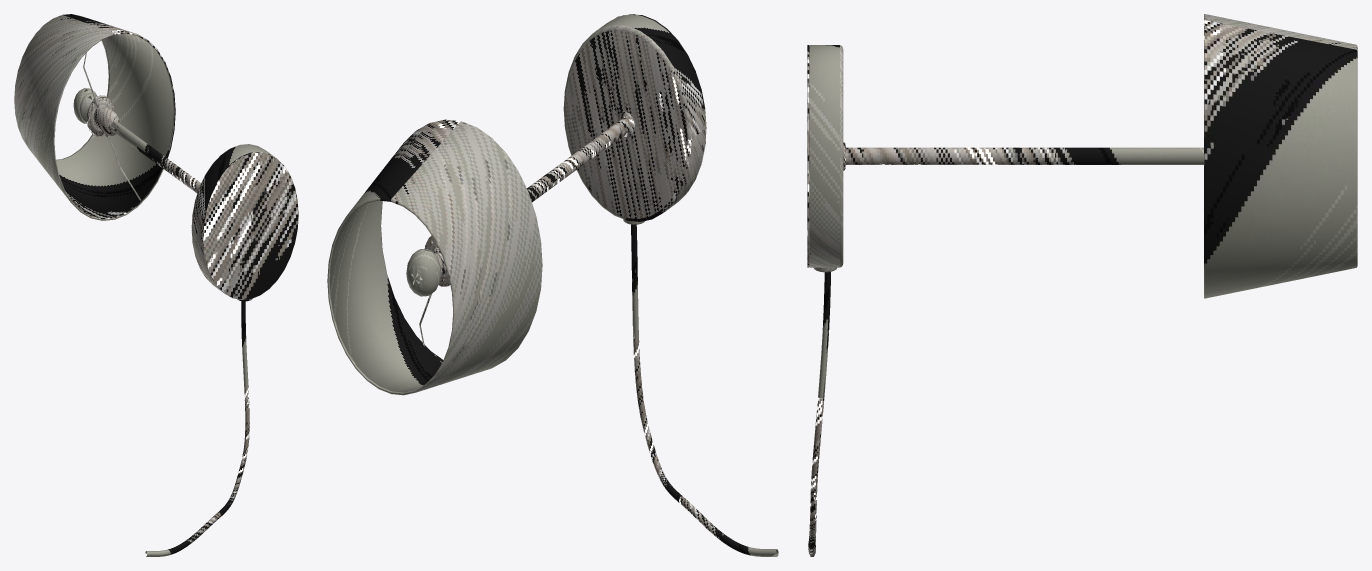
The model's file is desk_lamp.glb.
3 views of the same model, side by side, from view 1: azimuth 30°, elevation 25°; view 2: azimuth 150°, elevation 25°; view 3: azimuth 270°, elevation 25° (orthographic). The views are drawn at different scales.
Parts seen in each view (by area): view 1: Lamp_Lamp_0; view 2: Lamp_Lamp_0; view 3: Lamp_Lamp_0.
Part boxes in pixels (x1,y1,x2,y2): Lamp_Lamp_0: (14,14,298,556); Lamp_Lamp_0: (327,14,778,556); Lamp_Lamp_0: (807,14,1357,556).
Size of the model in its own units: 0.1873 by 0.44 by 0.3733.
Materials: 1 (1 with a texture image).
